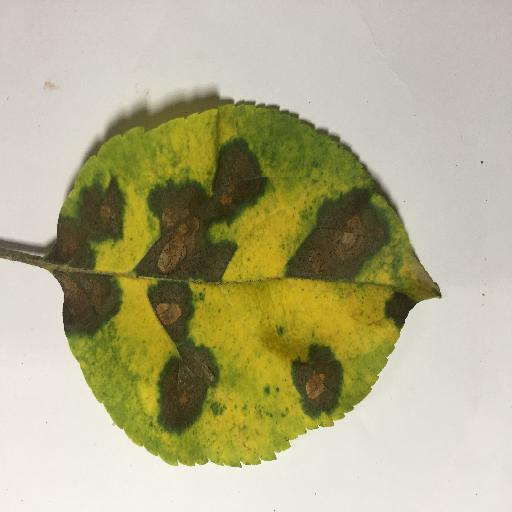Brown_Spot: (130, 139, 257, 279), (140, 279, 234, 447), (278, 187, 385, 278), (36, 196, 135, 270), (279, 351, 351, 421), (53, 269, 113, 343)
